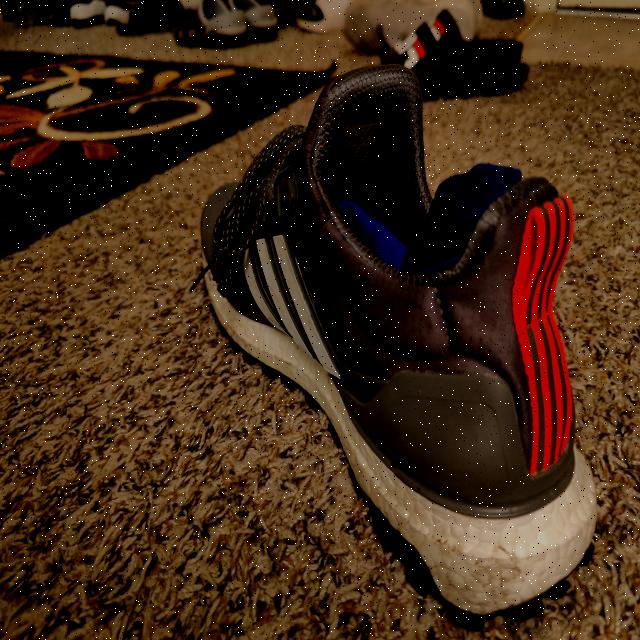black shoes: (262, 69, 550, 607)
